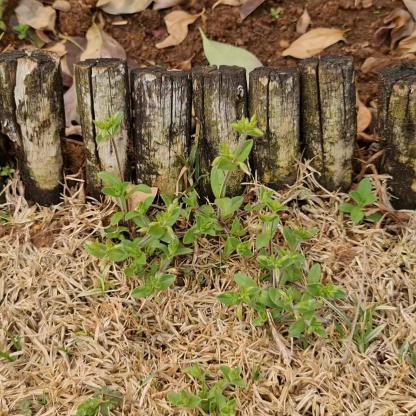Weeds: (86, 111, 344, 346), (167, 360, 247, 415), (338, 178, 380, 231), (77, 385, 123, 415)
